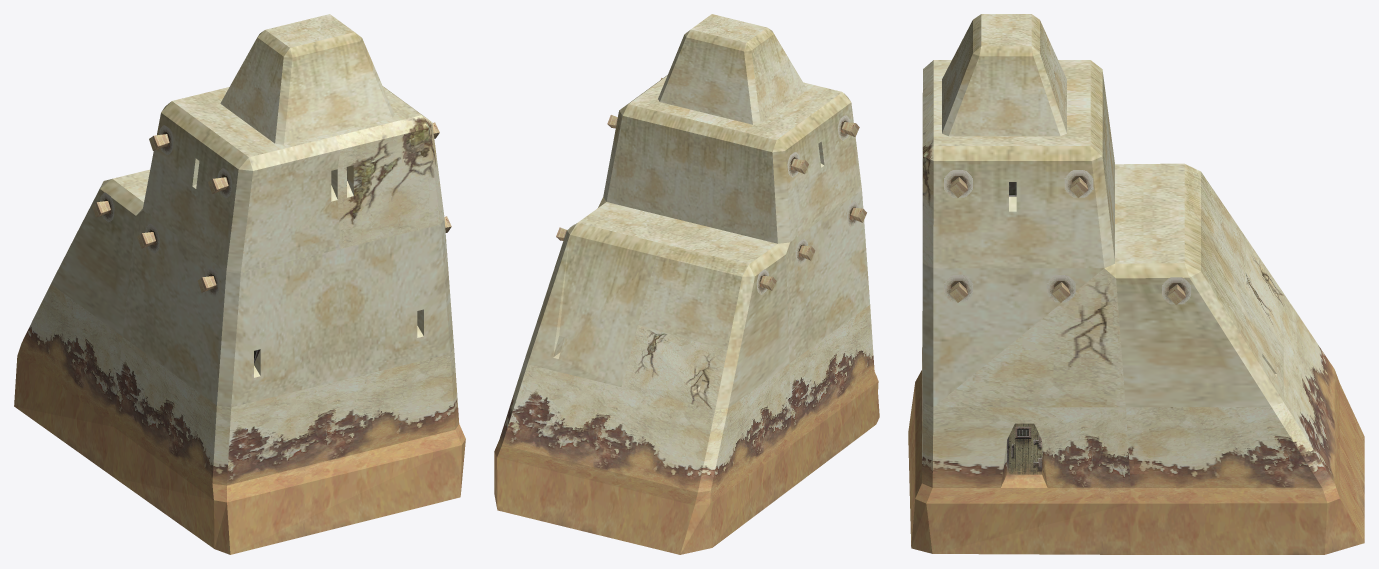
The model's file is C2SMCITY5H.obj.
3 views of the same model, side by side, from view 1: azimuth 30°, elevation 25°; view 2: azimuth 150°, elevation 25°; view 3: azimuth 270°, elevation 25° (orthographic). The views are drawn at different scales.
Visible parts, largest first — view 1: Node 0; view 2: Node 0; view 3: Node 0.
Boxes of the visible parts, left/top/right/bottom form: Node 0: left=14, top=14, right=465, bottom=554; Node 0: left=494, top=14, right=879, bottom=554; Node 0: left=908, top=14, right=1364, bottom=554.
Bounding box in the file's own units: 12.92 × 22.04 × 19.55.
Materials: 4 (4 with a texture image).
